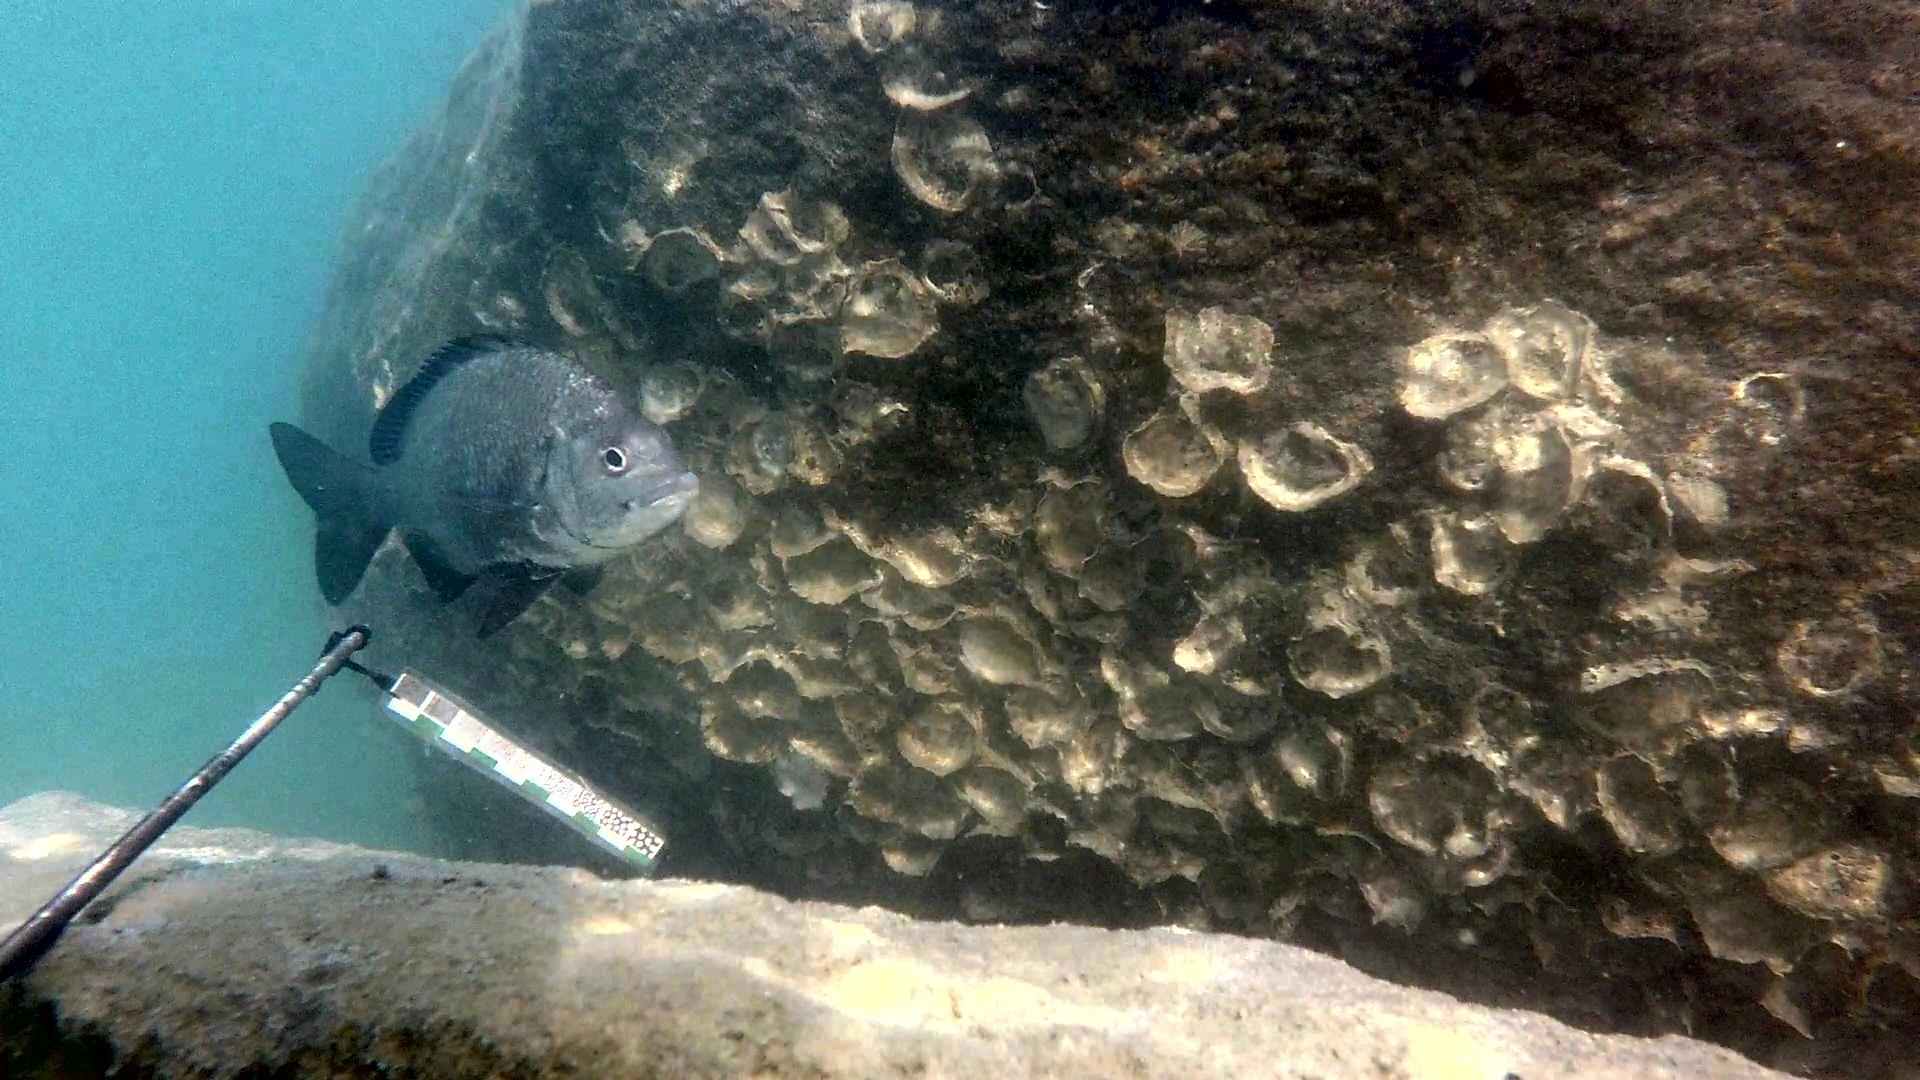acanthopagrus palmaris: (258, 318, 708, 651)
